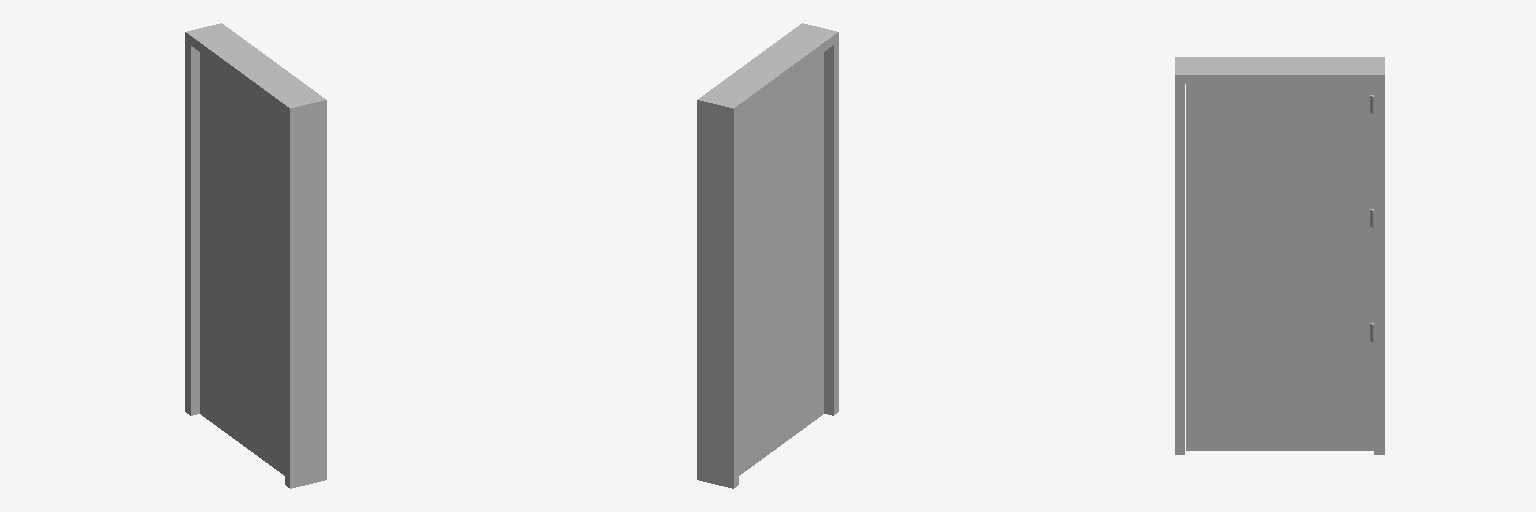
Rendered from Modular_Modern_Doorway_And_Door_2x2x0.2.obj.
3 views of the same model, side by side, from view 1: azimuth 30°, elevation 25°; view 2: azimuth 150°, elevation 25°; view 3: azimuth 270°, elevation 25° (orthographic).
Visible parts, largest first — view 1: Cube.001, Cube; view 2: Cube.001, Cube; view 3: Cube.001, Cube.
Part boxes in pixels (x1,y1,x2,y2): Cube.001: (200,52,284,475); Cube: (185,23,326,488); Cube.001: (739,52,823,475); Cube: (697,23,838,488); Cube.001: (1186,84,1373,450); Cube: (1175,57,1384,454).
Size of the model in its own units: 0.2 by 2 by 1.